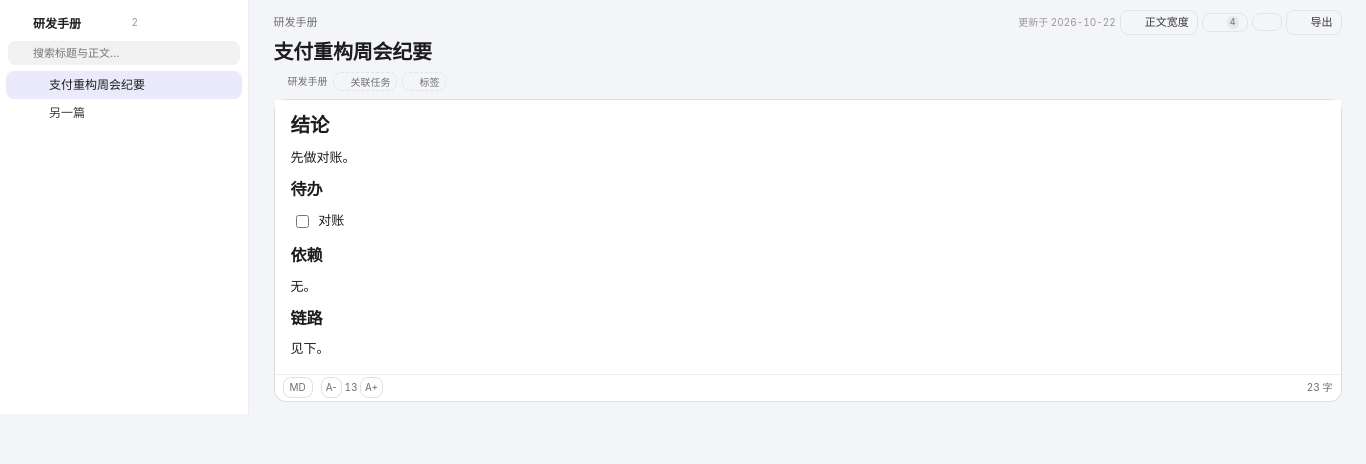
T73 · 大纲栏：计数徽标 + 宽屏自动展开 › 收起态也看得见「这篇有几个标题」，点一下展开右栏
Expected: the text with test id "notebook-outline-count" reads "4", 1230,16 -> 1236,27
Click the button with test id "notebook-outline-toggle" at (1225, 22), box 1202,13 -> 1248,32
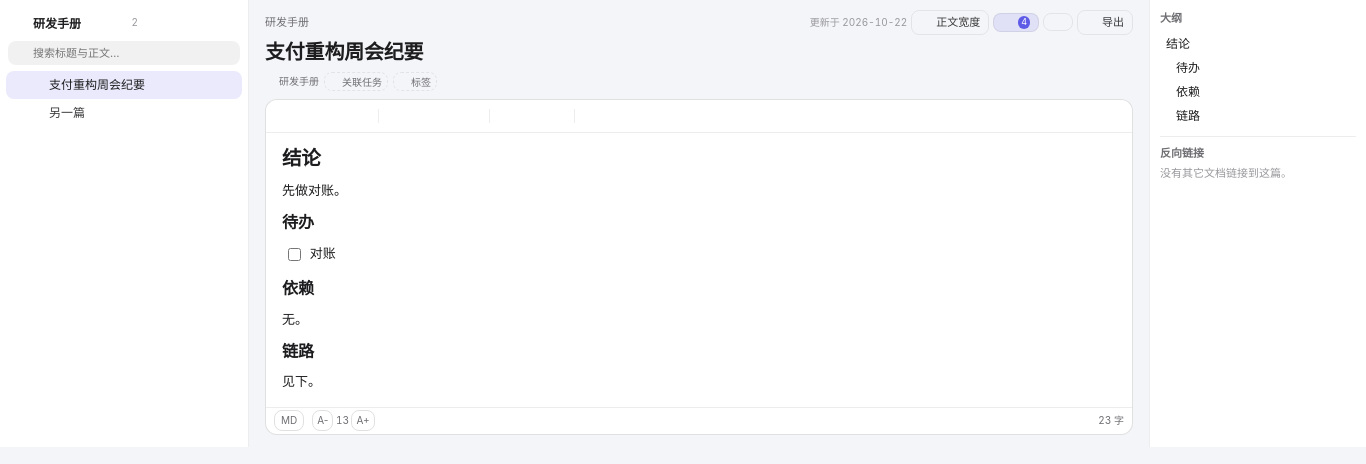
Expected: the element with test id "notebook-outline-panel" is shown, 1149,0 -> 1365,447
